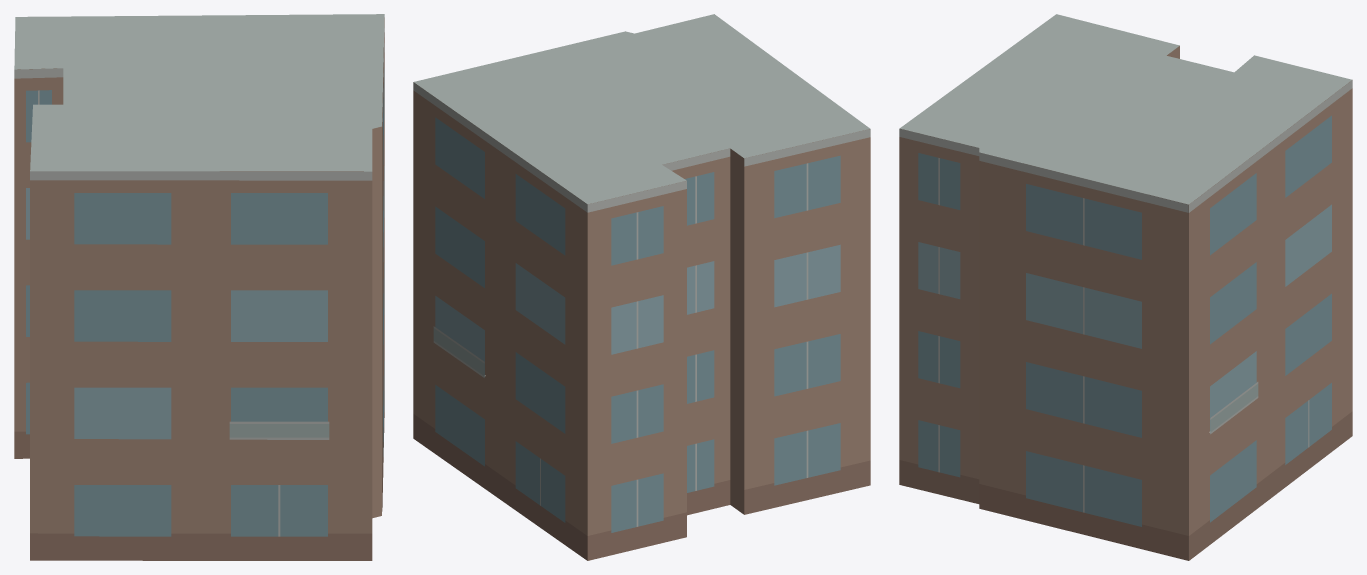
File: survey-upis-32791031.glb
3 views of the same model, side by side, from view 1: azimuth 30°, elevation 25°; view 2: azimuth 150°, elevation 25°; view 3: azimuth 270°, elevation 25° (orthographic). The views are drawn at different scales.
Parts seen in each view (by area): view 1: survey-upis-32791031.tmp; view 2: survey-upis-32791031.tmp; view 3: survey-upis-32791031.tmp.
Part boxes in pixels (box(x1,y1,x2,y2)): survey-upis-32791031.tmp: box(14, 14, 384, 560); survey-upis-32791031.tmp: box(413, 14, 870, 560); survey-upis-32791031.tmp: box(899, 14, 1352, 560).
Size of the model in its own units: 11.94 by 10.4 by 12.
